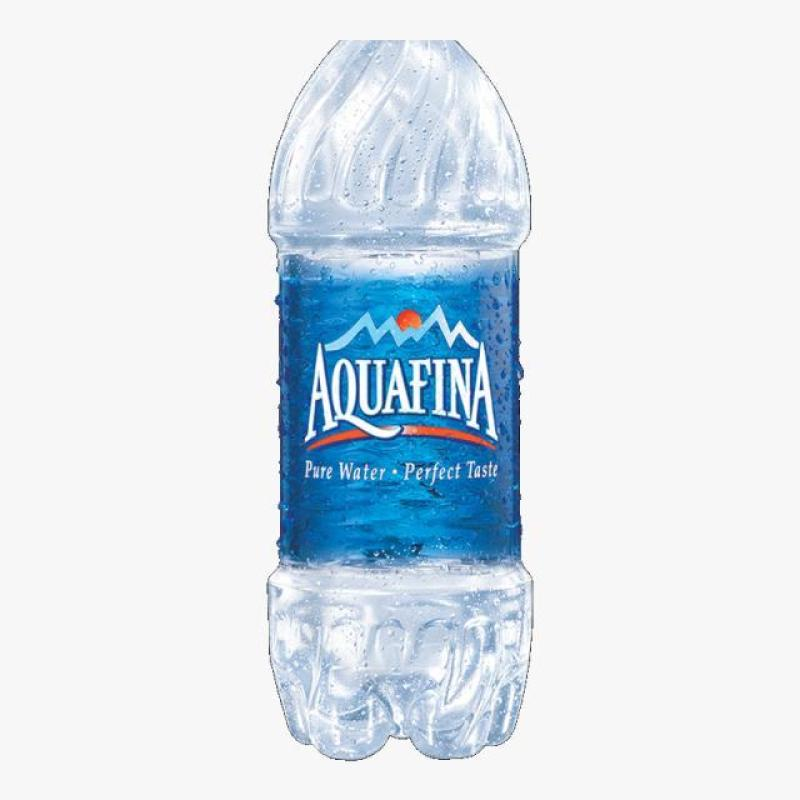botella: (264, 37, 535, 762)
